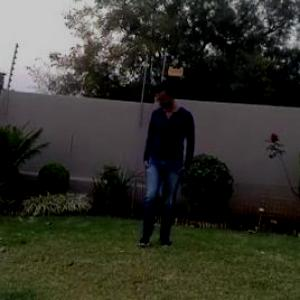follow: (138, 75, 194, 252)
